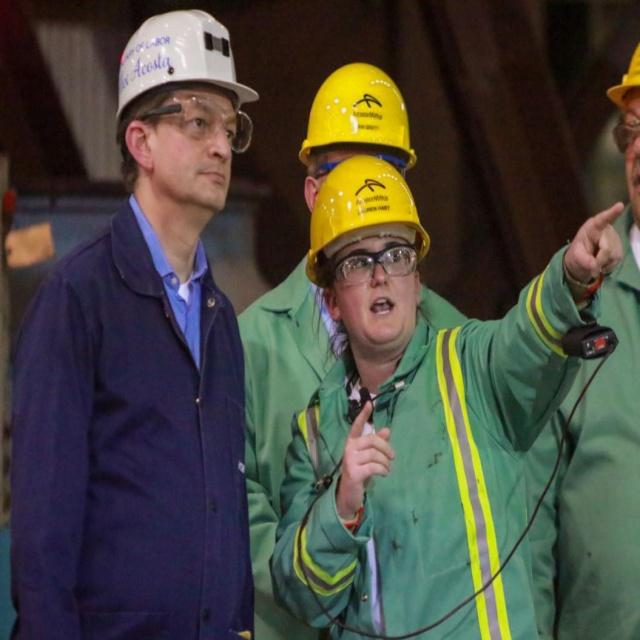helmet: (116, 12, 263, 283), (307, 204, 432, 464), (298, 73, 420, 231), (604, 48, 640, 307)
